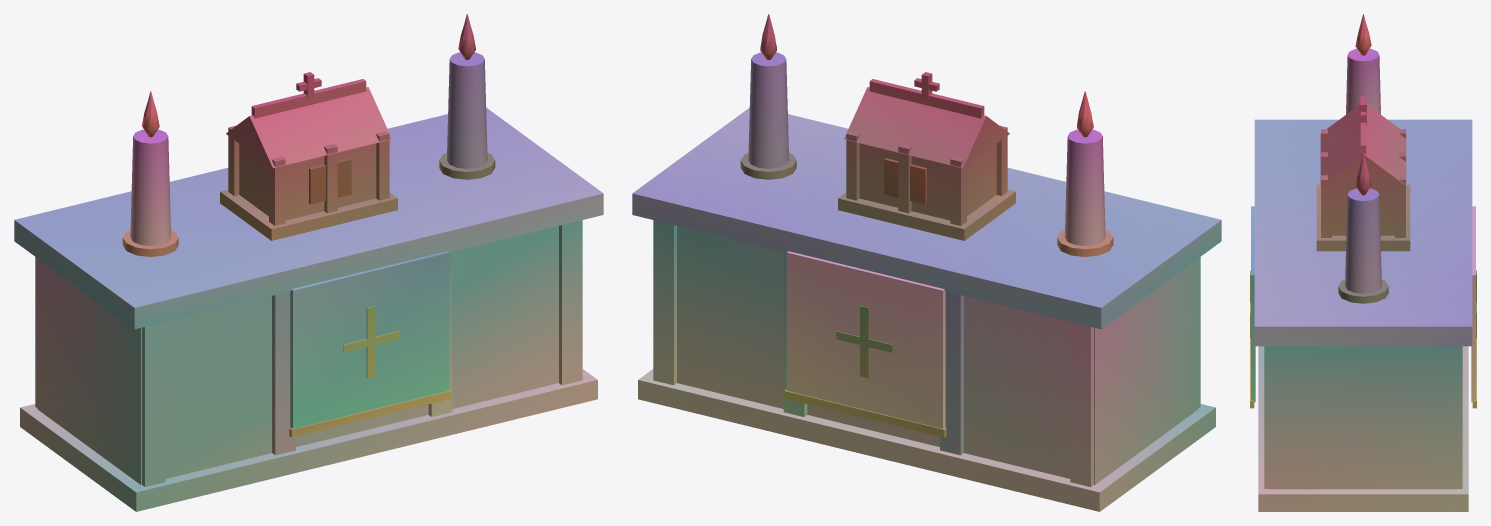
File: altar_wick.glb
The picture shows the model from 3 angles, left to right: view 1: azimuth 30°, elevation 25°; view 2: azimuth 150°, elevation 25°; view 3: azimuth 270°, elevation 25°; orthographic projection. The views are drawn at different scales.
Visible parts, largest first — view 1: mensa, cloth, reliquary, candle1, candle0, wick_heart; view 2: mensa, cloth, reliquary, candle0, candle1, wick_heart; view 3: cloth, mensa, reliquary, candle1, candle0, flame1, flame0.
Part boxes in pixels (bbox=[...]): mensa: bbox=[20, 220, 597, 511]; cloth: bbox=[14, 108, 603, 428]; reliquary: bbox=[122, 72, 495, 437]; candle1: bbox=[447, 52, 487, 168]; candle0: bbox=[130, 129, 171, 245]; wick_heart: bbox=[309, 158, 351, 204]; mensa: bbox=[638, 220, 1215, 511]; cloth: bbox=[632, 108, 1221, 428]; reliquary: bbox=[740, 72, 1113, 437]; candle0: bbox=[1064, 129, 1105, 245]; candle1: bbox=[748, 52, 789, 168]; wick_heart: bbox=[884, 158, 926, 204]; cloth: bbox=[1251, 119, 1475, 402]; mensa: bbox=[1258, 346, 1468, 511]; reliquary: bbox=[1250, 96, 1476, 408]; candle1: bbox=[1345, 188, 1381, 293]; candle0: bbox=[1346, 48, 1380, 114]; flame1: bbox=[1355, 153, 1371, 195]; flame0: bbox=[1355, 14, 1371, 55].
Size of the model in its own units: 2.52 by 1.85 by 1.17.
